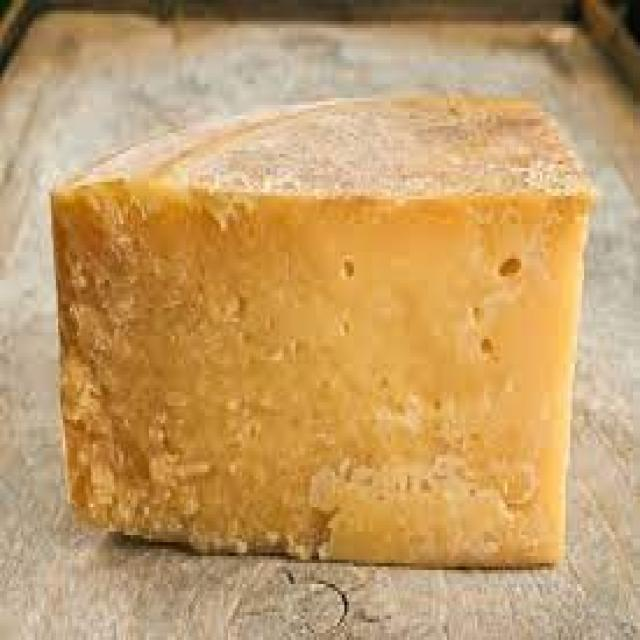Cheese: (47, 52, 572, 616)
